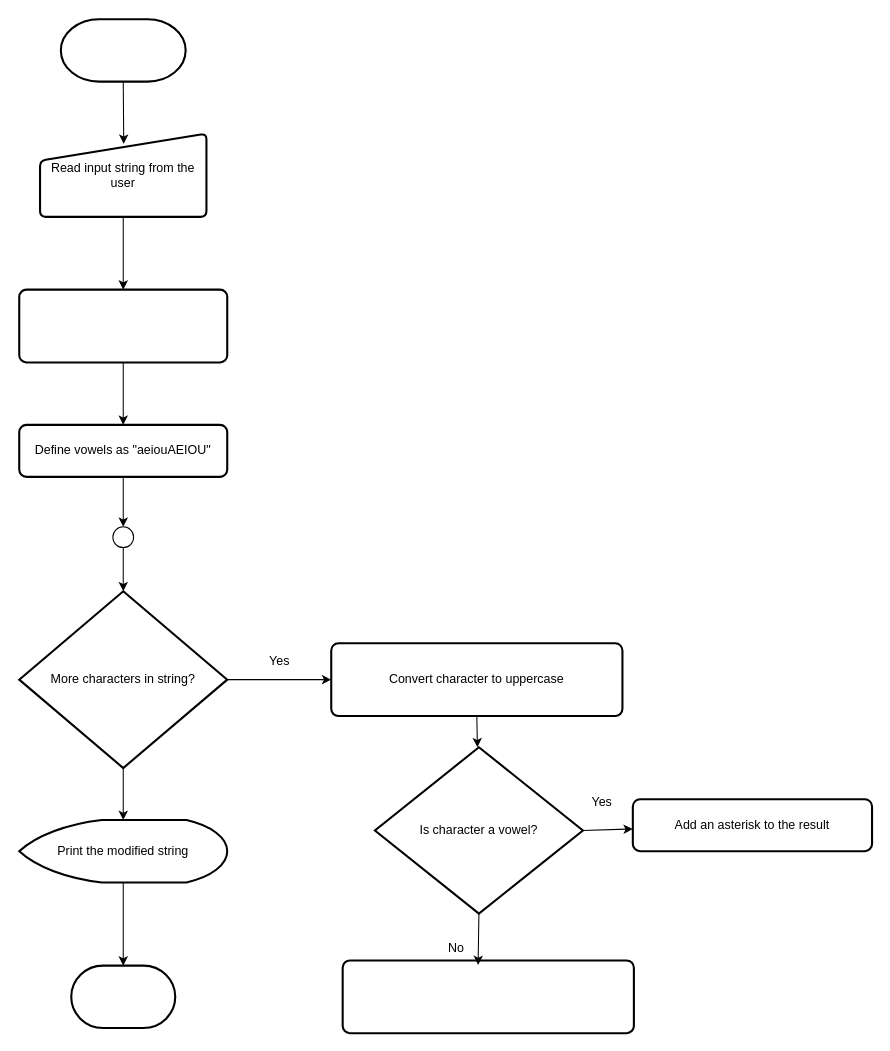
The diagram is 890 pixels wide and 1051 high, and some of its shapes have lost their labels. Here are the shapes that lost their labels. From the top down, the centre of each, then its label:
At [122,50]: "Start".
At [123,325]: "Lnitialize an empty string for the result".
At [123,996]: "End".
At [487,996]: "Add the uppercase character to the result".
